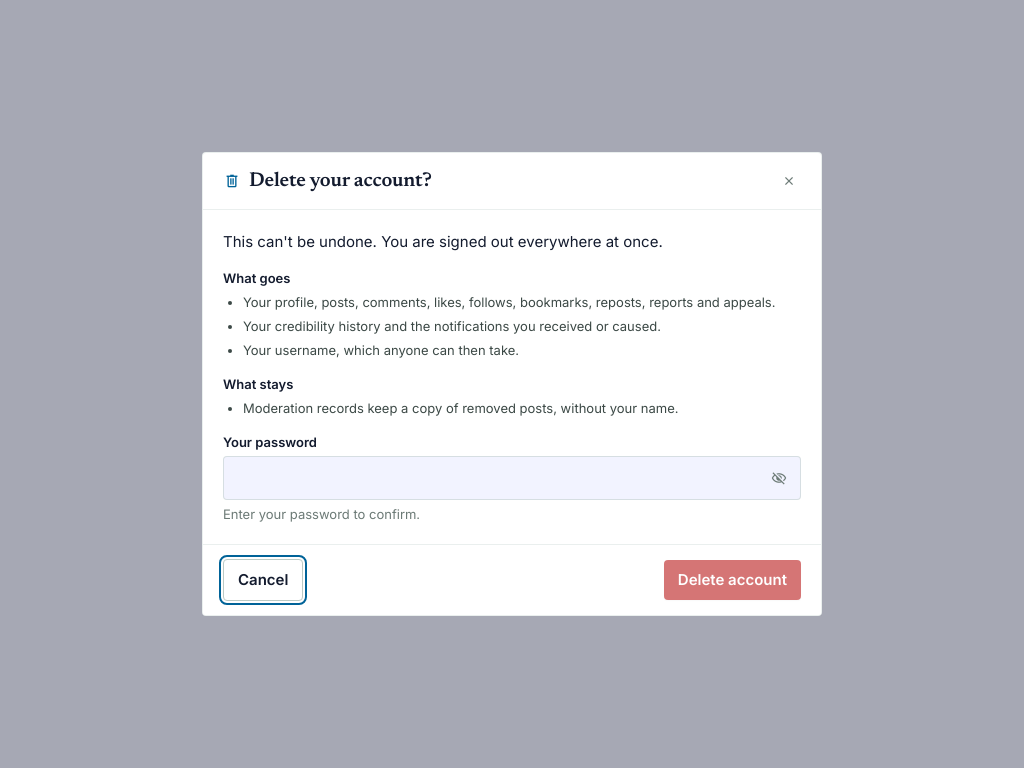
Test: DeleteAccountModal › puts a wrong password on the field and deletes nothing
Type "wrong" into the password field labelled "Your password" at (512, 478), box [223,456,801,500]
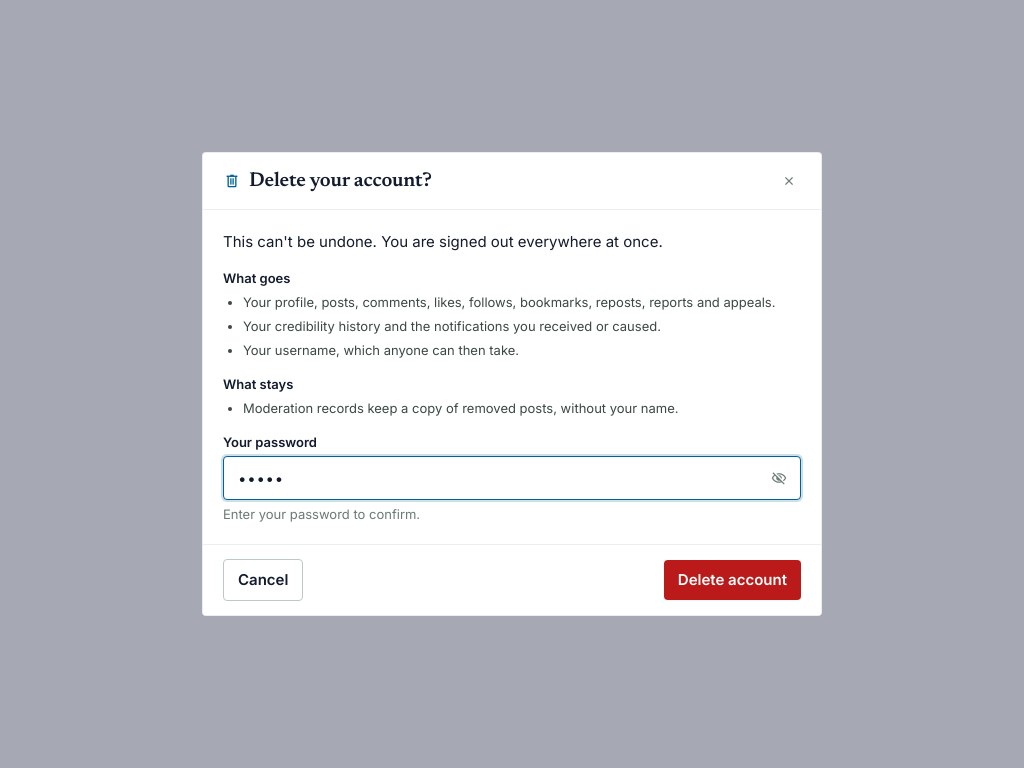
Click the button "Delete account" at (732, 580), box [664,560,801,600]
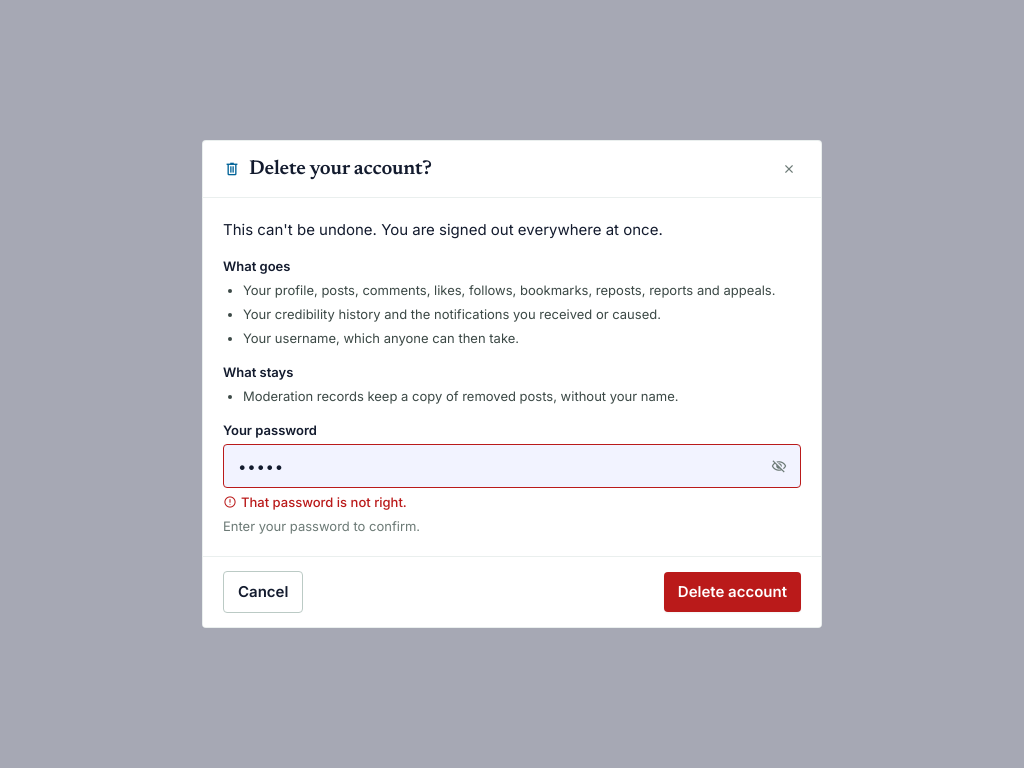
Expected: the text "That password is not right." is shown, [223,494,407,510]
